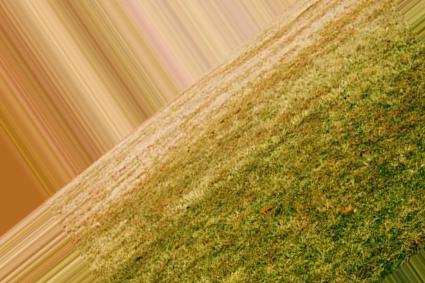patch: (102, 147, 150, 174), (66, 182, 114, 208), (177, 100, 221, 122), (141, 127, 199, 142), (215, 76, 241, 97), (240, 61, 275, 71)
